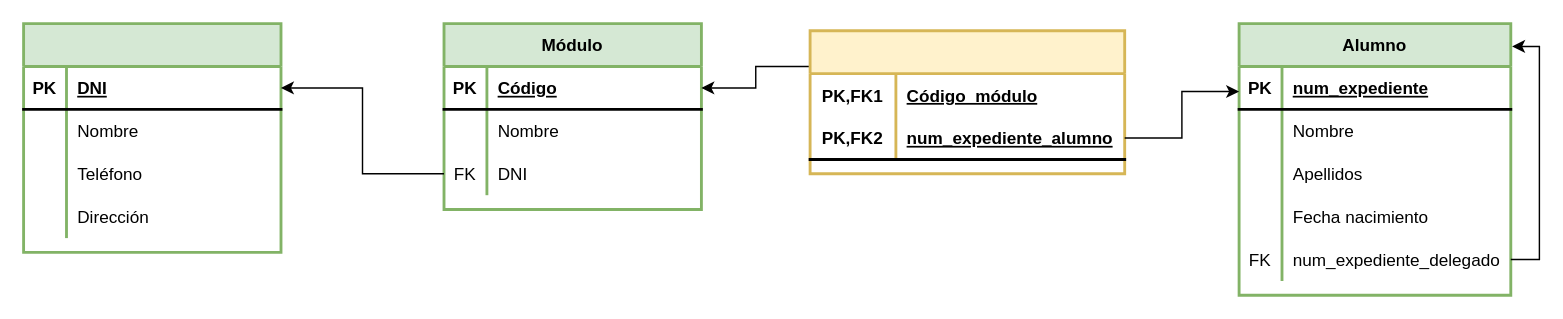
Image size: 1563x319. Some labels were removed from this diagram. The box of each missing label's shape, as (x1, y1, x2, y2) in pixels:
Cursa: (808, 29, 1125, 174)
Profesor: (21, 21, 282, 253)
